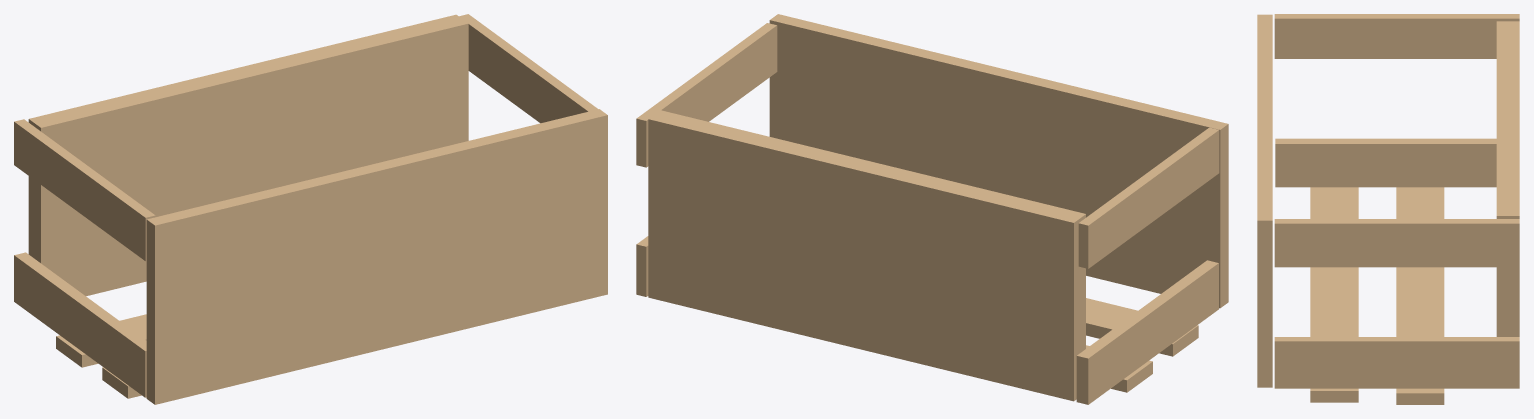
File: tinker.obj
The picture shows the model from 3 angles, left to right: view 1: azimuth 30°, elevation 25°; view 2: azimuth 150°, elevation 25°; view 3: azimuth 270°, elevation 25°; orthographic projection. The views are drawn at different scales.
Visible parts, largest first — view 1: obj_0; view 2: obj_0; view 3: obj_0.
Boxes of the visible parts, x1,y1,x2,y2 form: obj_0: [14, 14, 607, 404]; obj_0: [636, 14, 1228, 404]; obj_0: [1257, 14, 1519, 404].
Size of the model in its own units: 188 by 78.27 by 101.
